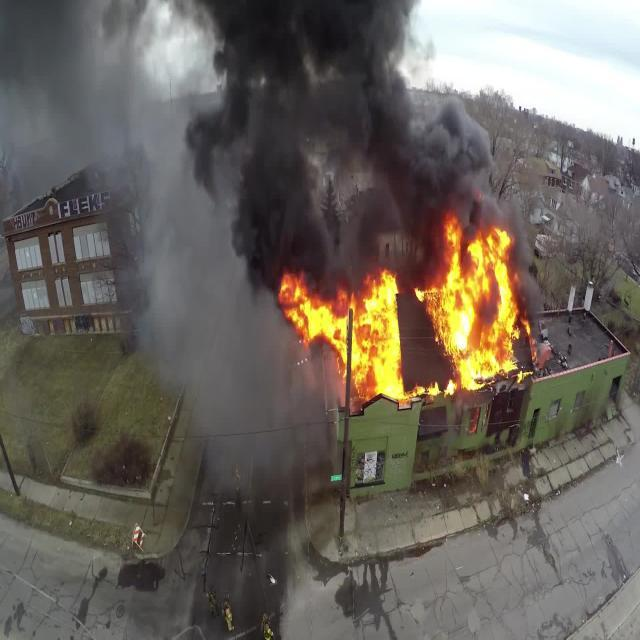Fire: (429, 229, 514, 379), (296, 290, 404, 392)
Smoke: (210, 2, 420, 280), (172, 270, 302, 472), (33, 7, 152, 172), (140, 180, 210, 266), (422, 115, 482, 206)
